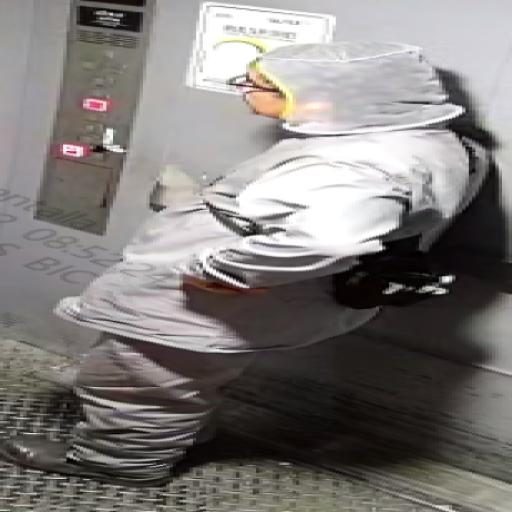person: (3, 5, 512, 509)
